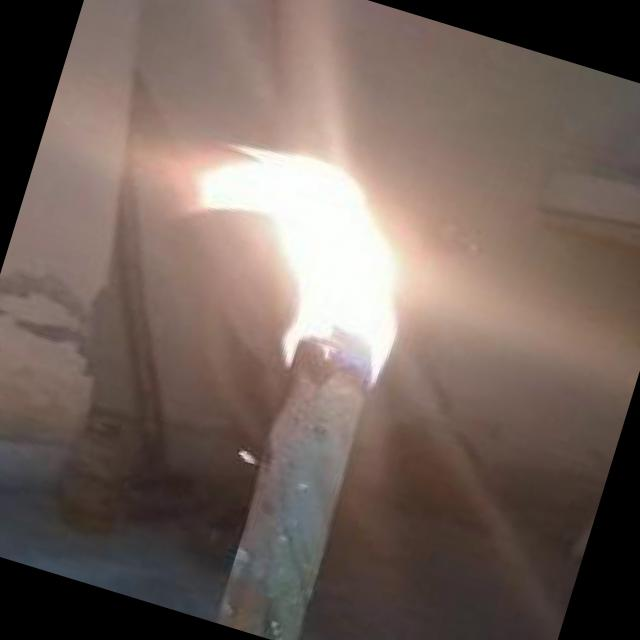fire: (138, 118, 486, 402)
